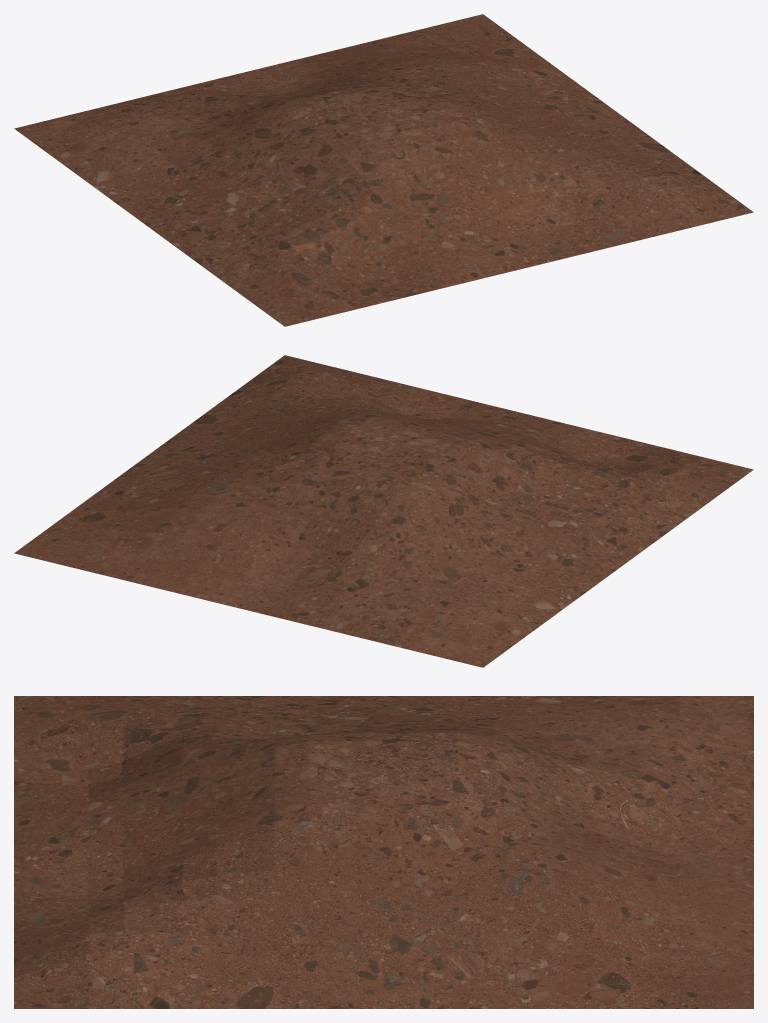
File: DirtState-01.fbx
The picture shows the model from 3 angles, top to bottom: view 1: azimuth 30°, elevation 25°; view 2: azimuth 150°, elevation 25°; view 3: azimuth 270°, elevation 25°; orthographic projection. The views are drawn at different scales.
Visible parts, largest first — view 1: Plane; view 2: Plane; view 3: Plane.
Part boxes in pixels (left/top/right/bottom): Plane: left=14, top=14, right=753, bottom=326; Plane: left=14, top=355, right=753, bottom=667; Plane: left=14, top=696, right=753, bottom=1008.
Size of the model in its own units: 400 by 49.39 by 400.
1 material, 1 textured.
